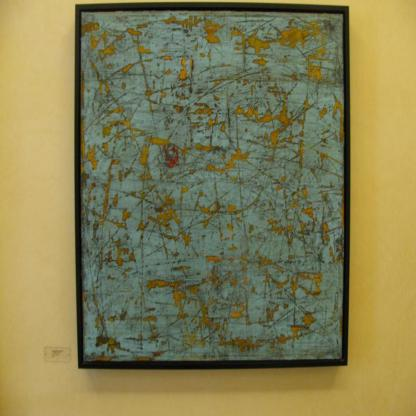Picture-frame: (76, 4, 350, 370)
